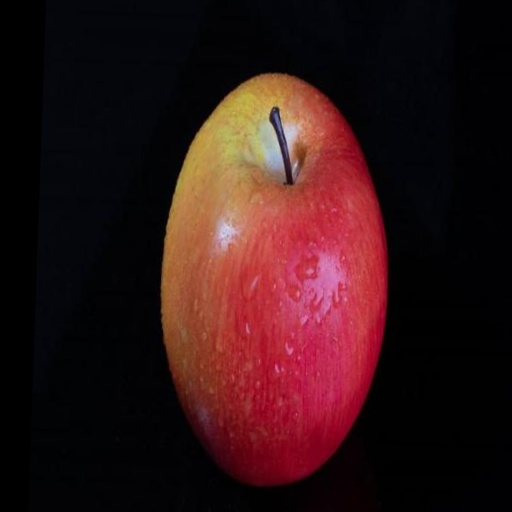fruit: (161, 74, 387, 485)
